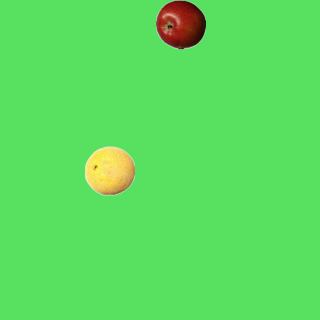Apple Braeburn: (155, 0, 205, 49)
Cantaloupe 1: (84, 145, 134, 195)
